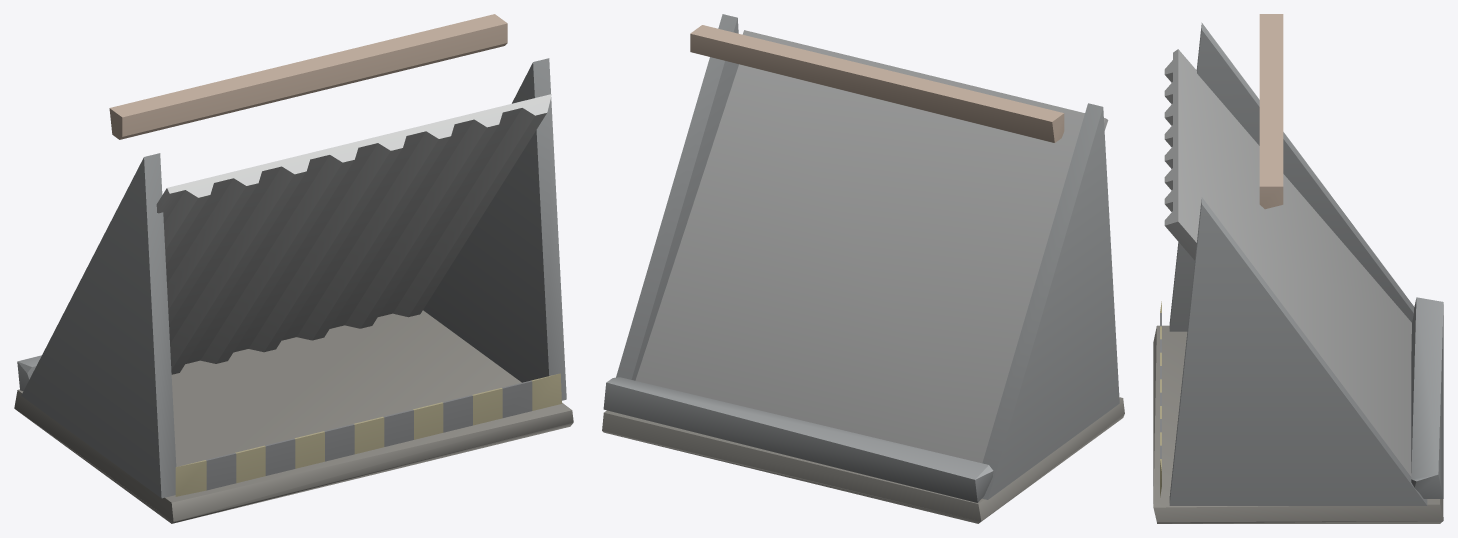
The model's file is deflector.lod1.glb.
3 views of the same model, side by side, from view 1: azimuth 30°, elevation 25°; view 2: azimuth 150°, elevation 25°; view 3: azimuth 270°, elevation 25° (orthographic). The views are drawn at different scales.
Size of the model in its own units: 4 by 3.43 by 2.7.
